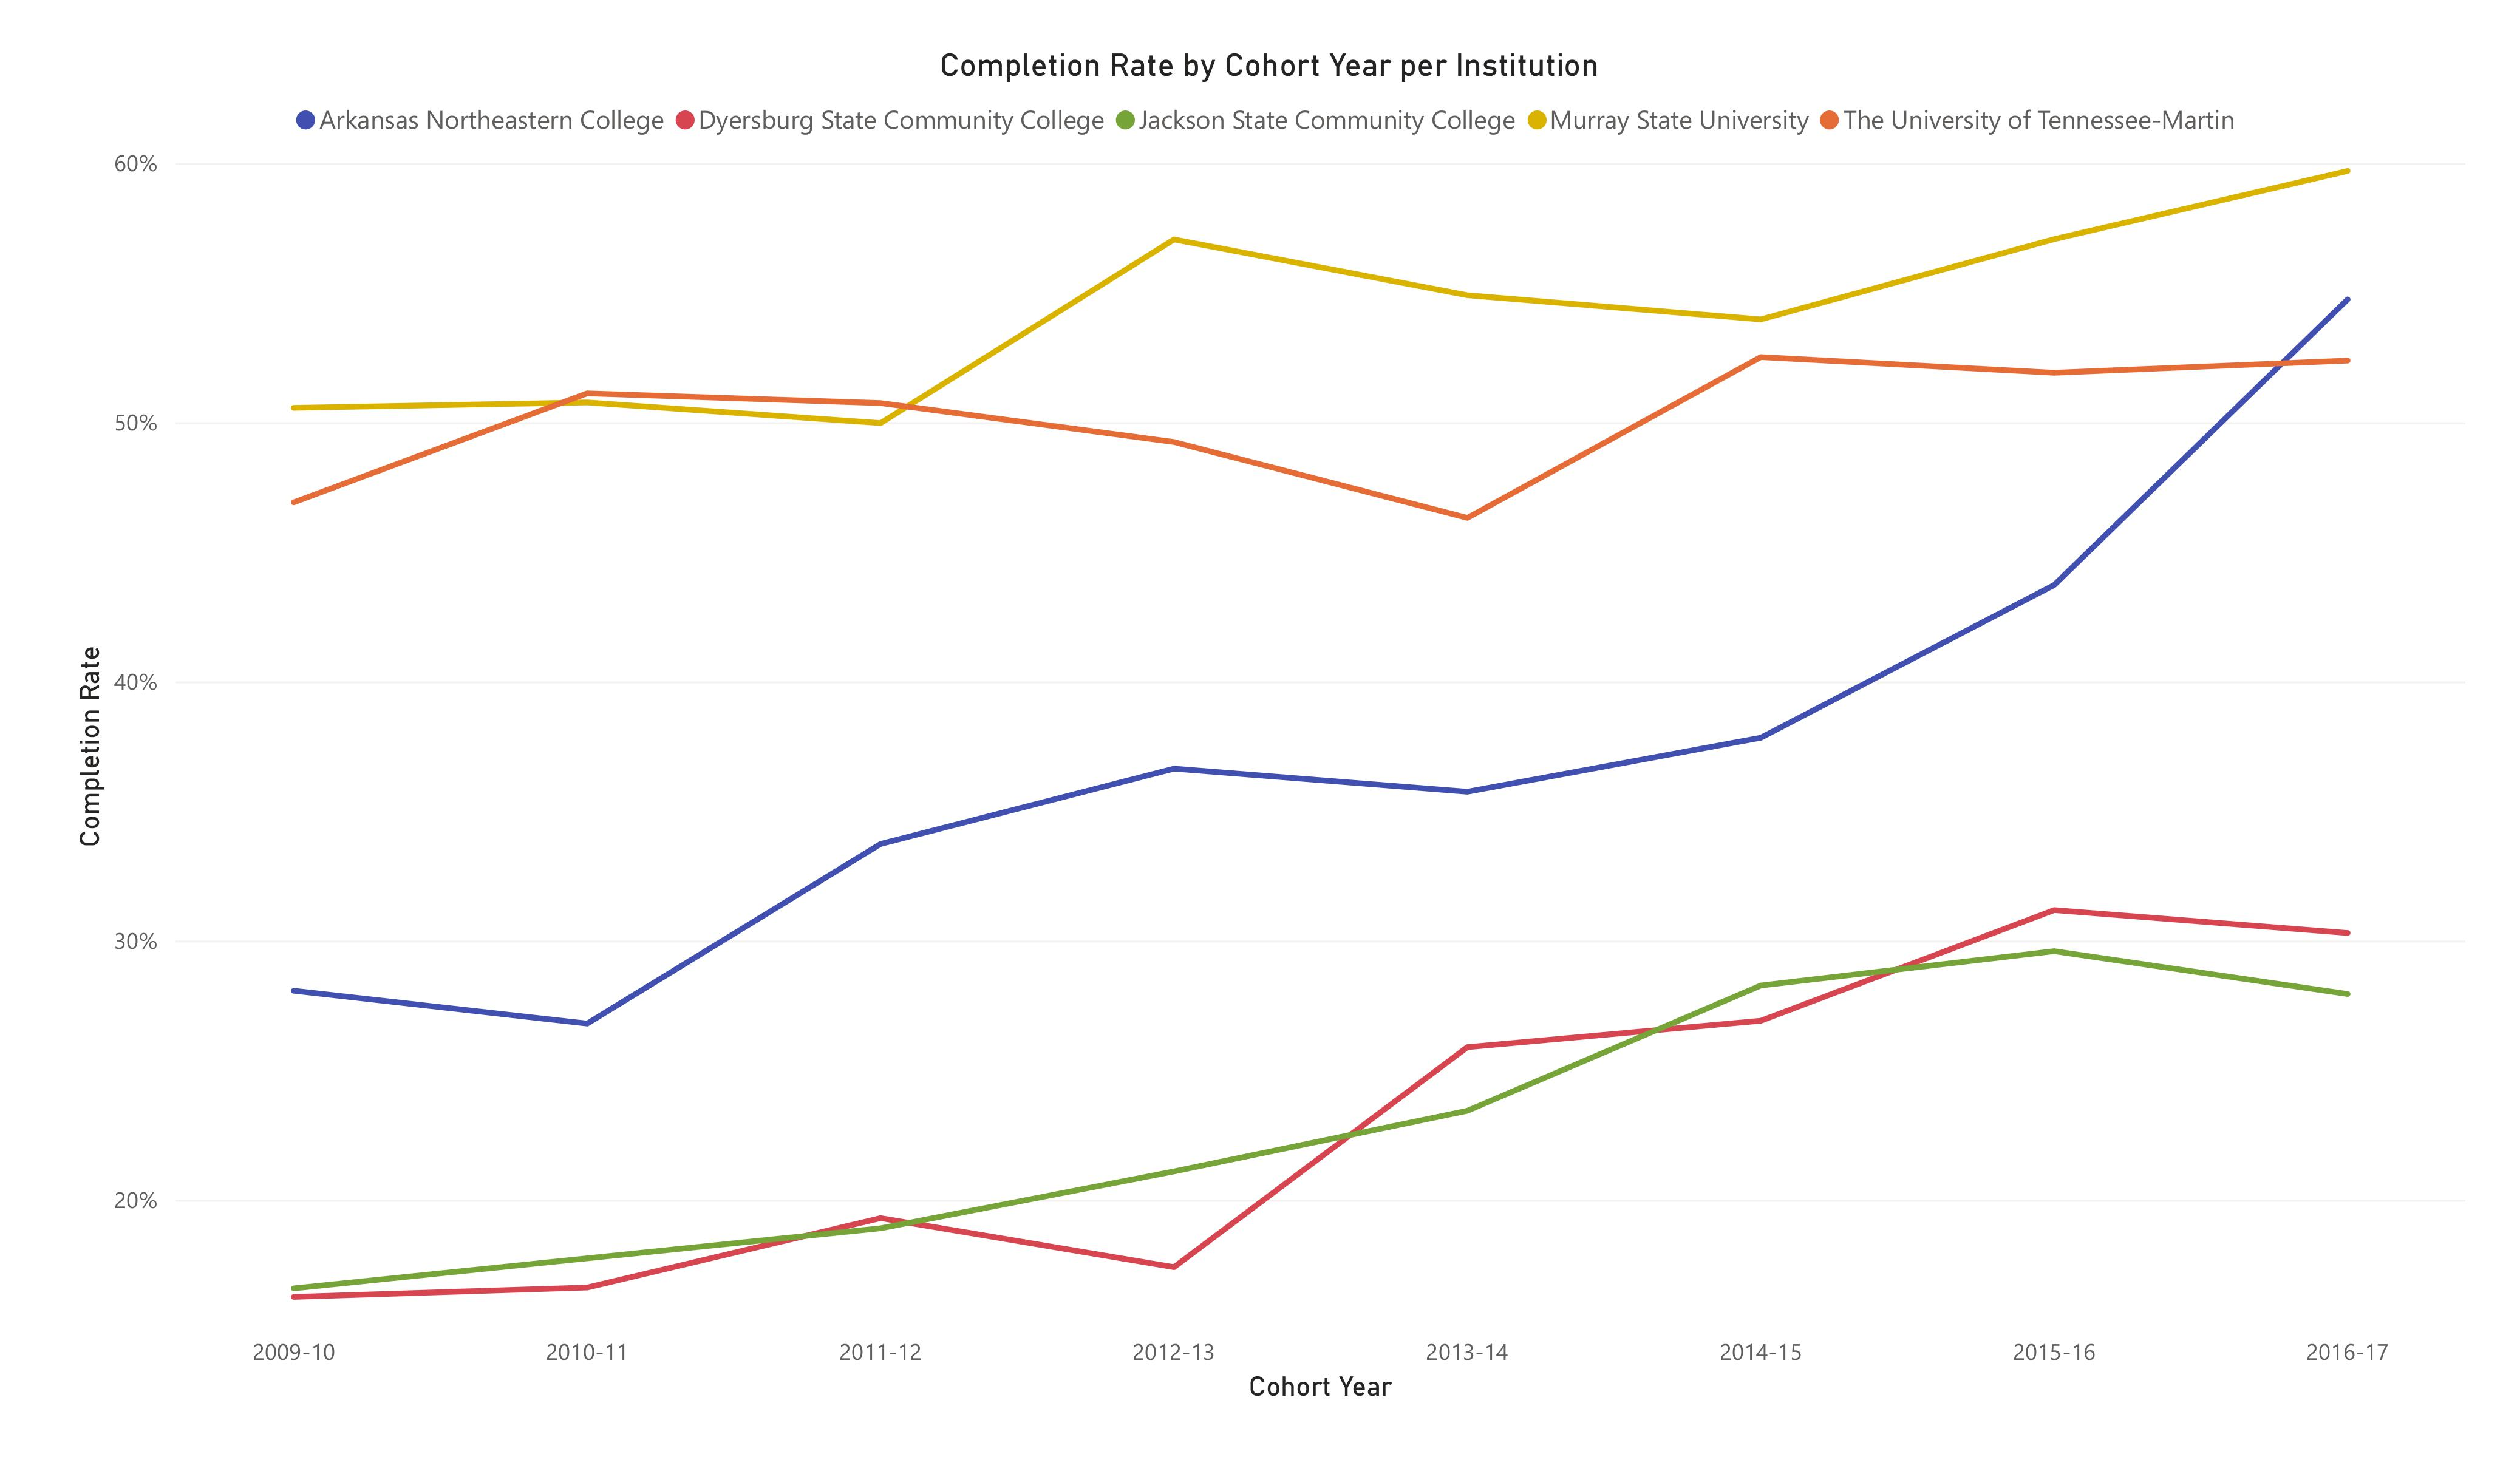

What the dashboard file says about the page in this screenshot:
{"tool":"powerbi","page":{"name":"Completion over Time","canvas":[1280,720],"ordinal":0},"visuals":[{"type":"lineChart","title":"Completion Rate by Cohort Year per Institution","fields":{"Category":["om_cohort.cohort_year"],"Y":["om_cohort.Completion rate"],"Series":["institution.name"]},"box":[10,0,1270,719.6],"z":0}]}

Visuals, with their boxes on the page's 1280x720 design canvas (x1, y1, x2, y2). These are canvas units, not pixel positions in the 2520x1457 screenshot, which may show the page scaled, cropped or inside an application window:
"Completion Rate by Cohort Year per Institution" lineChart: [10, 0, 1280, 720]
